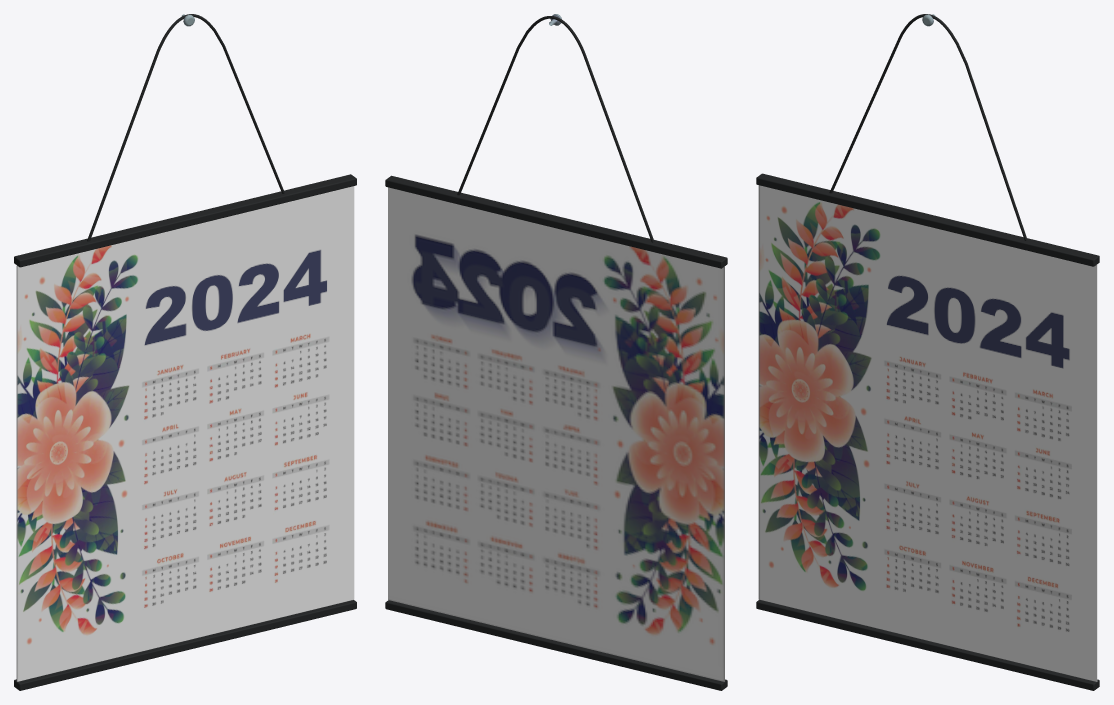
Rendered from calendar_wall_-_3mb.glb.
3 views of the same model, side by side, from view 1: azimuth 30°, elevation 25°; view 2: azimuth 150°, elevation 25°; view 3: azimuth 330°, elevation 25° (orthographic).
Visible parts, largest first — view 1: Cylinder; view 2: Cylinder; view 3: Cylinder.
Part boxes in pixels (x1,y1,x2,y2): Cylinder: (14, 14, 356, 690); Cylinder: (385, 14, 727, 690); Cylinder: (756, 14, 1099, 690).
Bounding box in the file's own units: 1.58 × 2.83 × 0.0574.
Materials: 1 (1 with a texture image).
